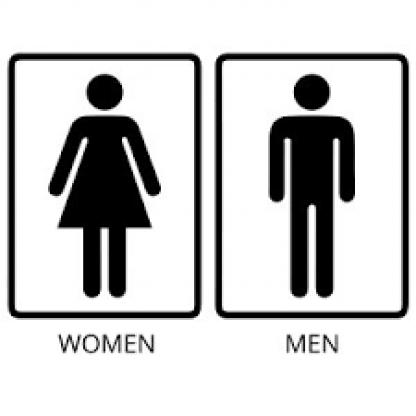toilet: (45, 72, 160, 298), (262, 72, 360, 300)
